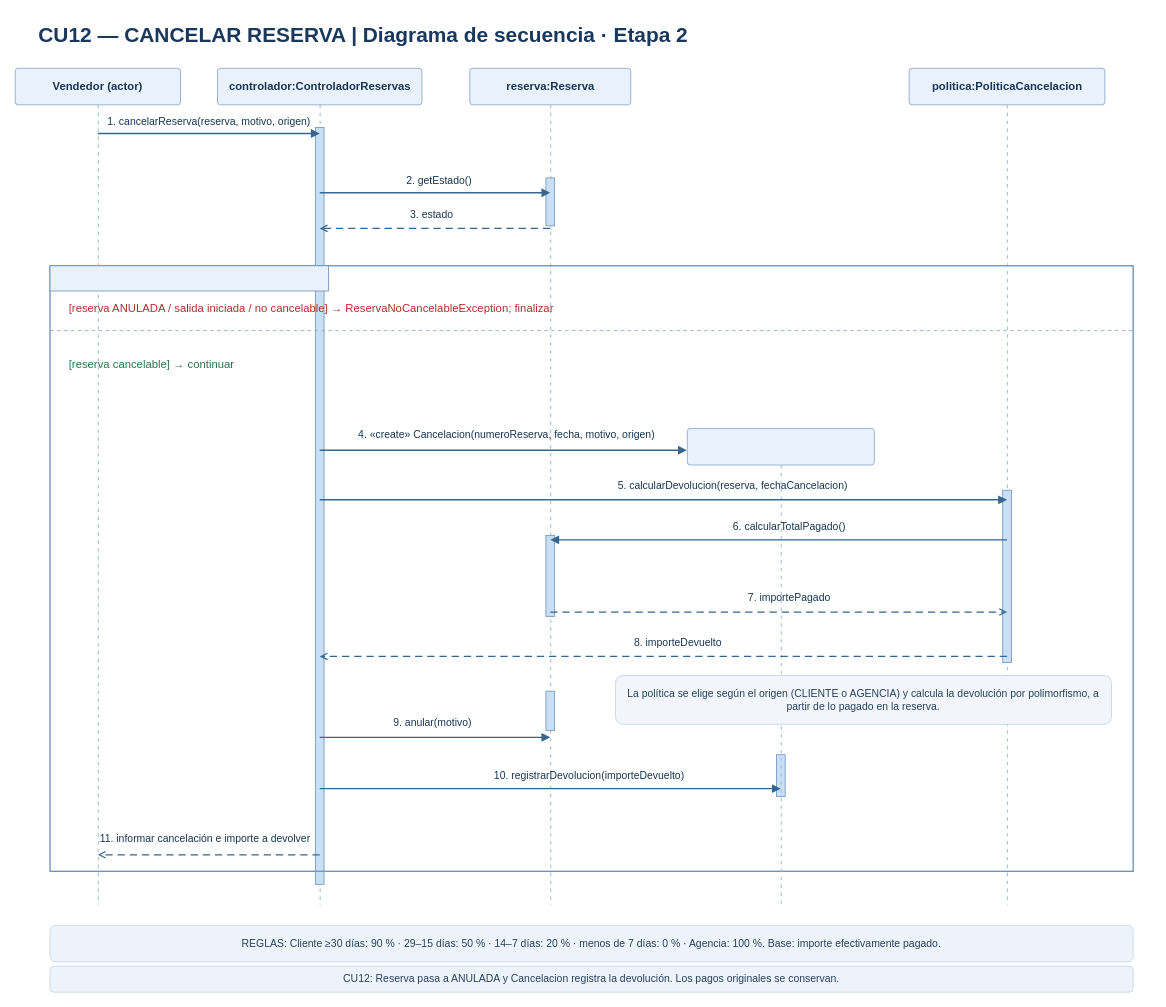
Some shapes in this 1166 by 1007 pixel diagram are drawn without their labels. The centre of each missing label's shape, as x and y in pixels:
alt — Validación de cancelación: point (188, 278)
cancelacion:Cancelacion: point (780, 446)
